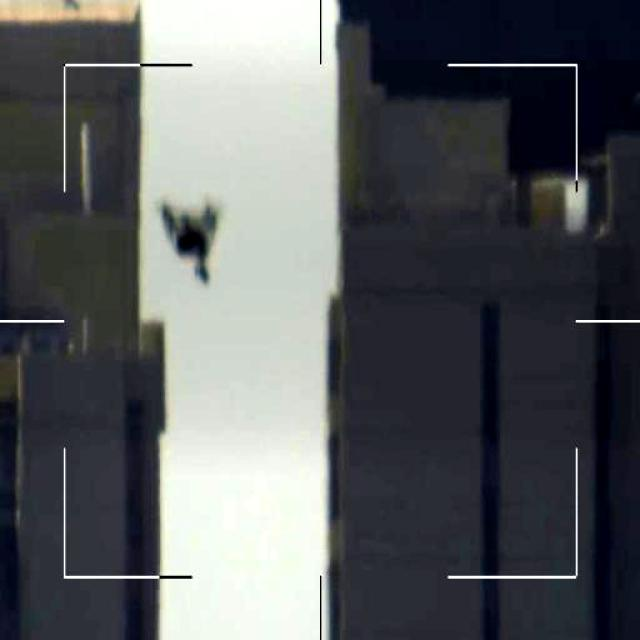bird: (159, 196, 228, 292)
